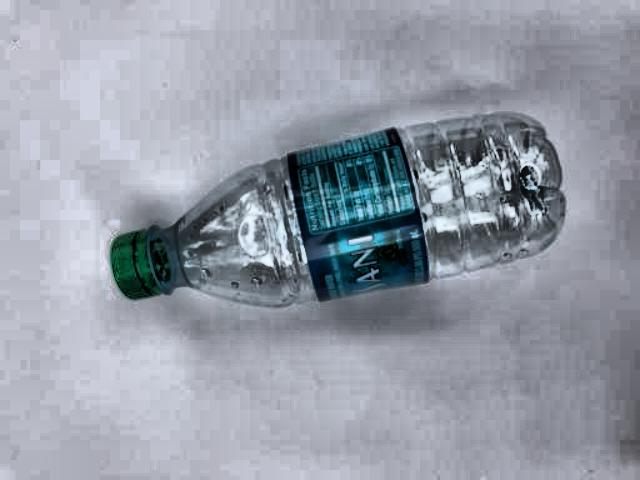Bottles: (64, 105, 595, 341)
